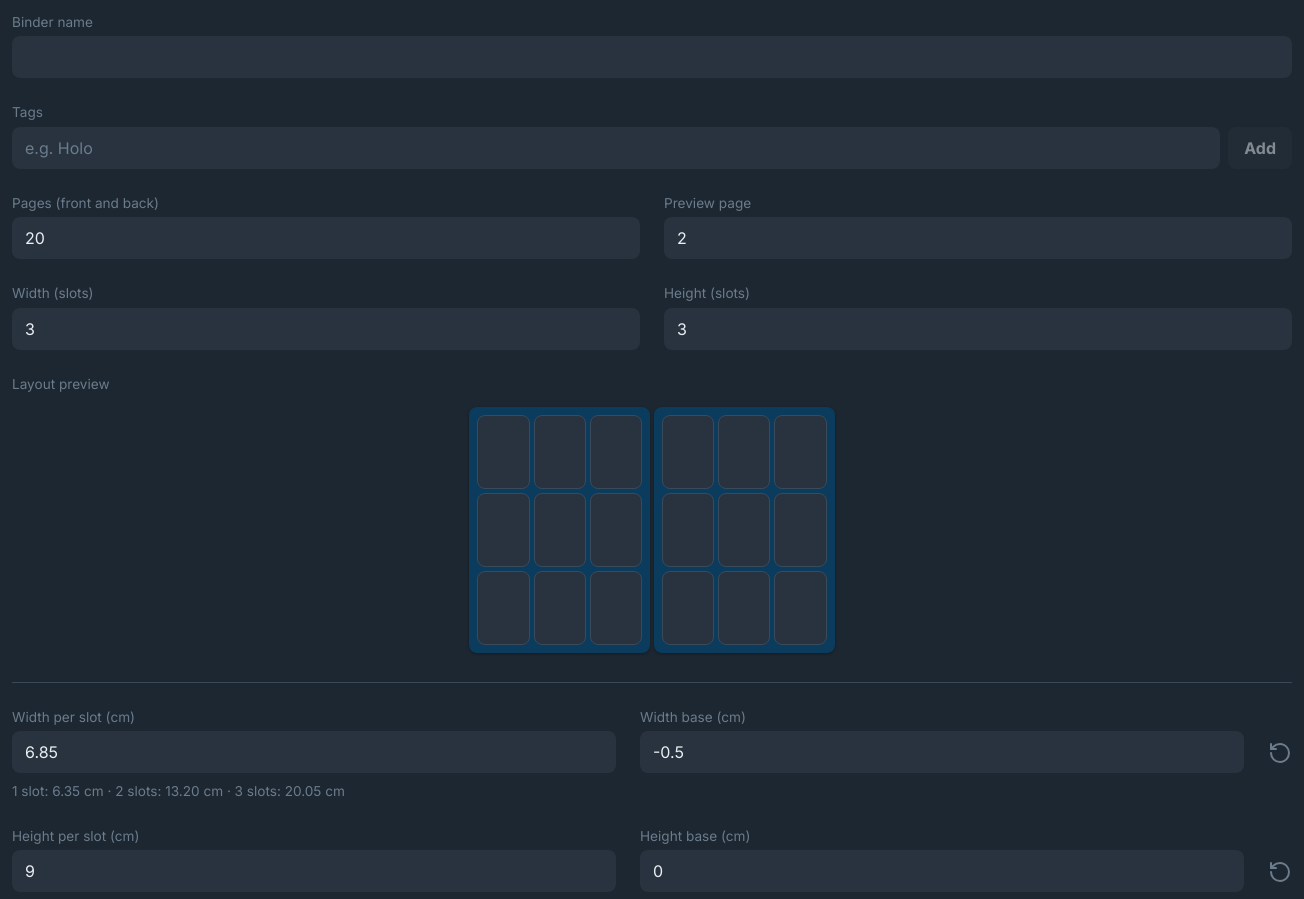
BinderDetailsForm › shows a validation error under width when set below the minimum
This screenshot has width=1304, height=899.
Replace the text in the number field labelled "Width (slots)" with "0" at (326,329), box [12,308,640,350]
(page scrolled)
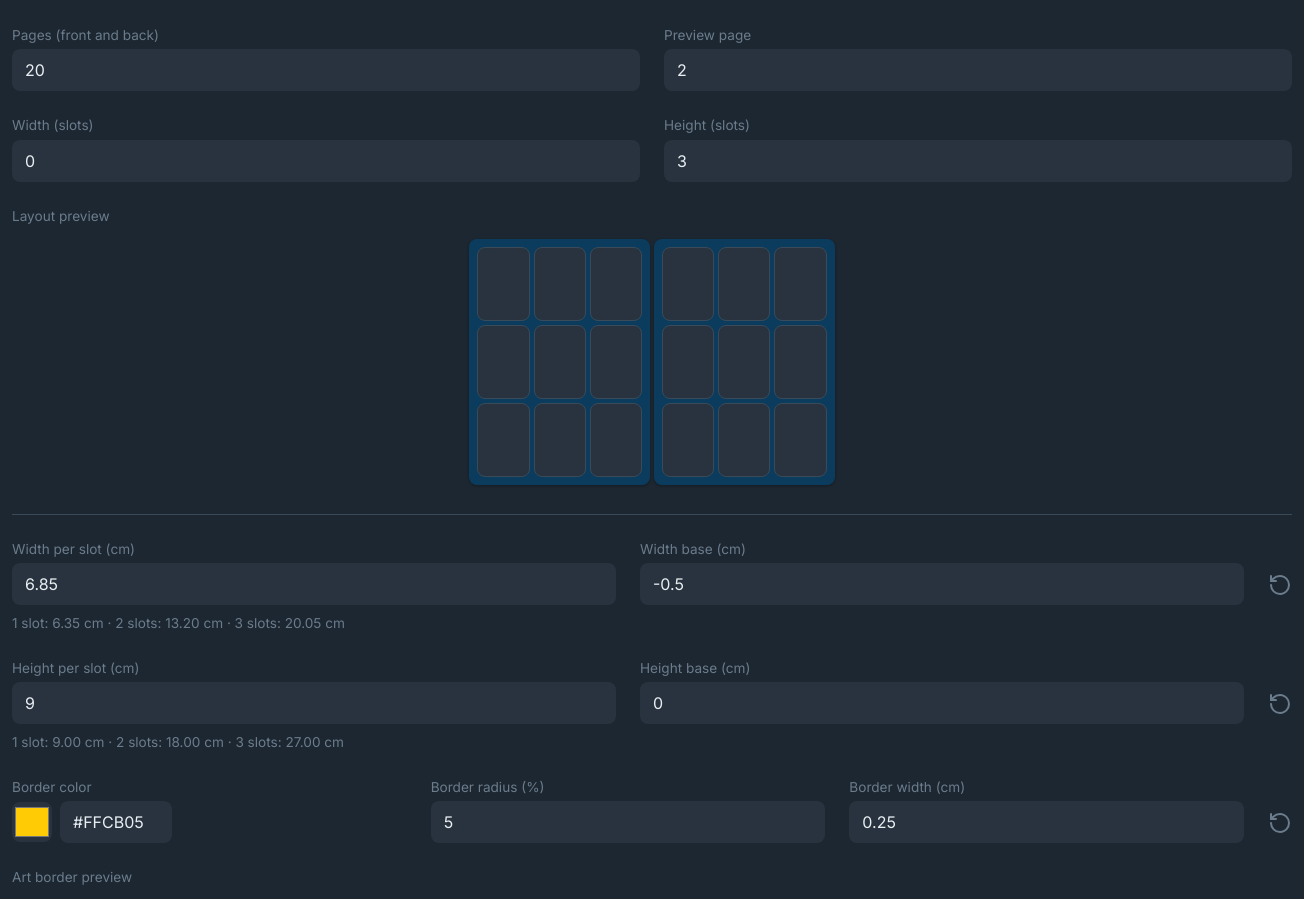
Submit the form labelled "Width (slots)"
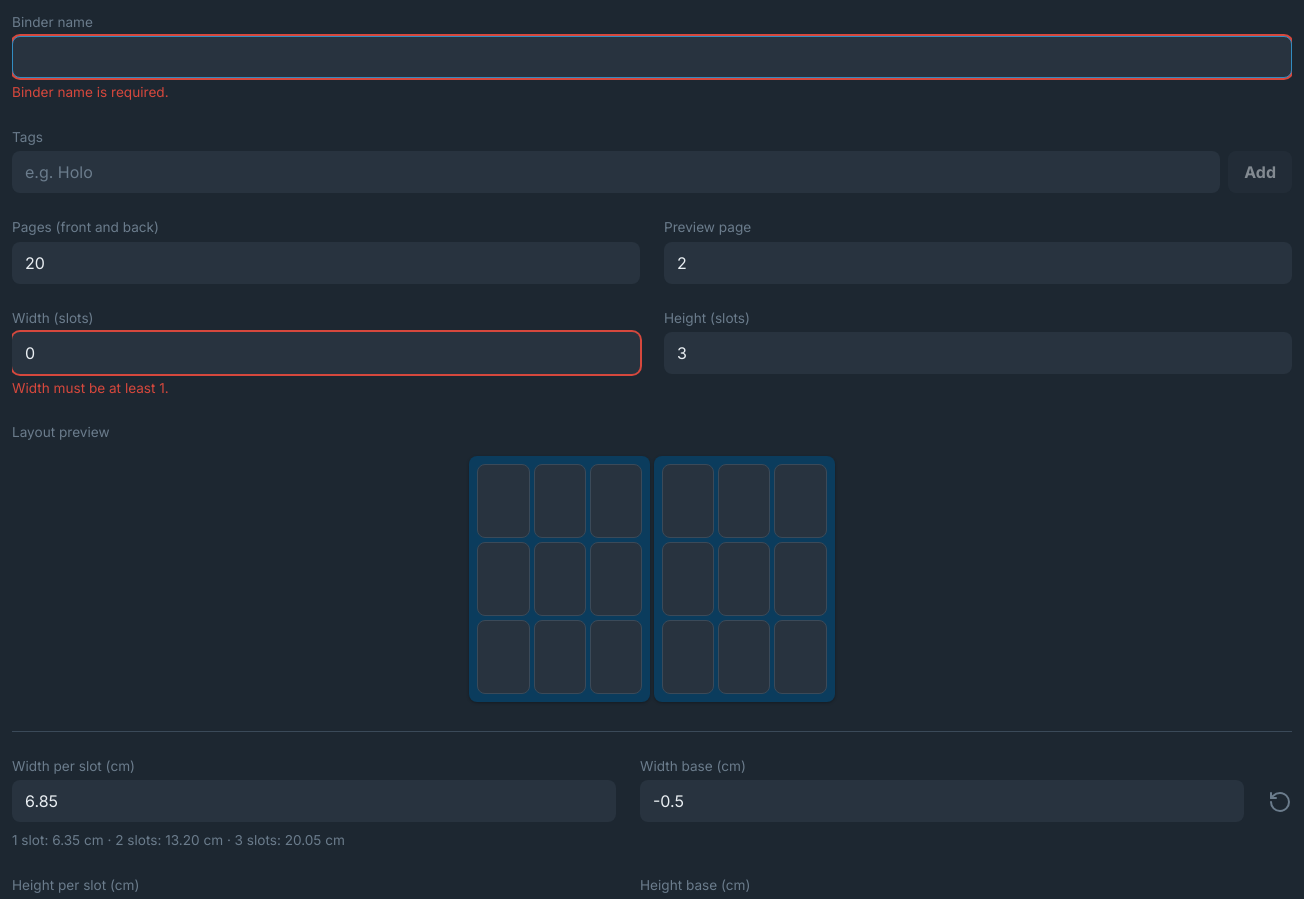
Expected: the text "Width must be at least 1." is shown, [12,380,169,396]
